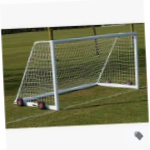goals: (13, 30, 143, 112)
